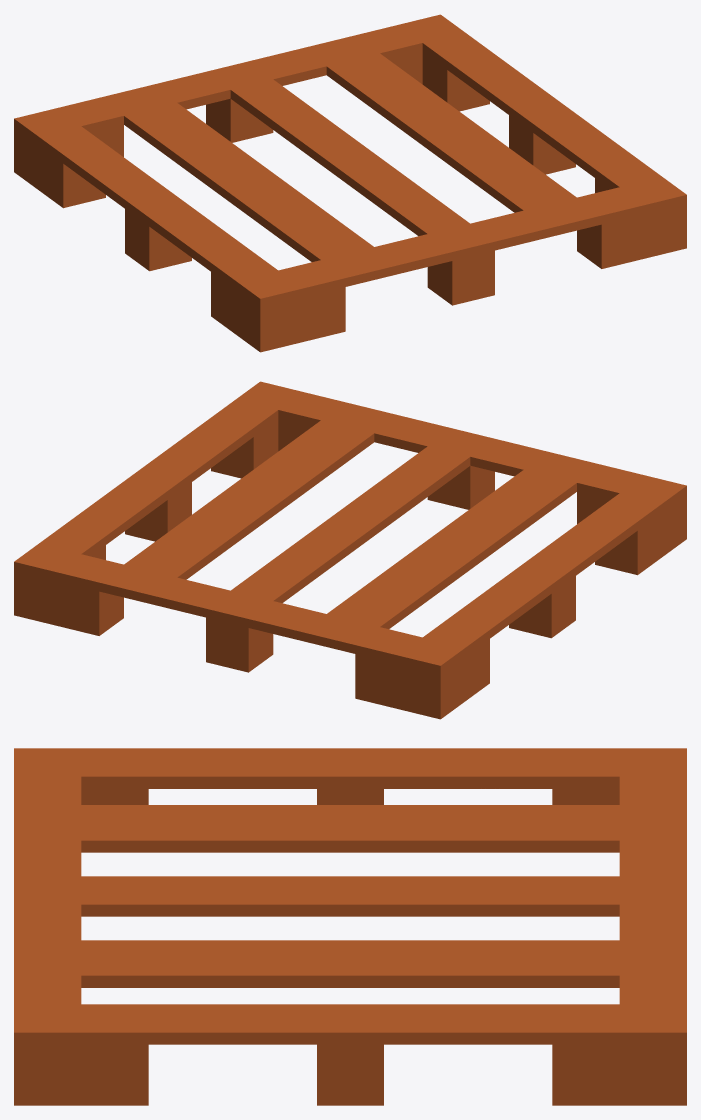
File: pallet.glb
3 renders of one model, top to bottom at view 1: azimuth 30°, elevation 25°; view 2: azimuth 150°, elevation 25°; view 3: azimuth 270°, elevation 25°, orthographic. The views are drawn at different scales.
Visible parts, largest first — view 1: Pallet; view 2: Pallet; view 3: Pallet.
Part boxes in pixels (x1=…): Pallet: x1=14, y1=14, x2=686, y2=352; Pallet: x1=14, y1=381, x2=686, y2=719; Pallet: x1=14, y1=748, x2=686, y2=1105.
Size of what is drawn, in the model's own units: 1.17 by 0.1409 by 1.17.
